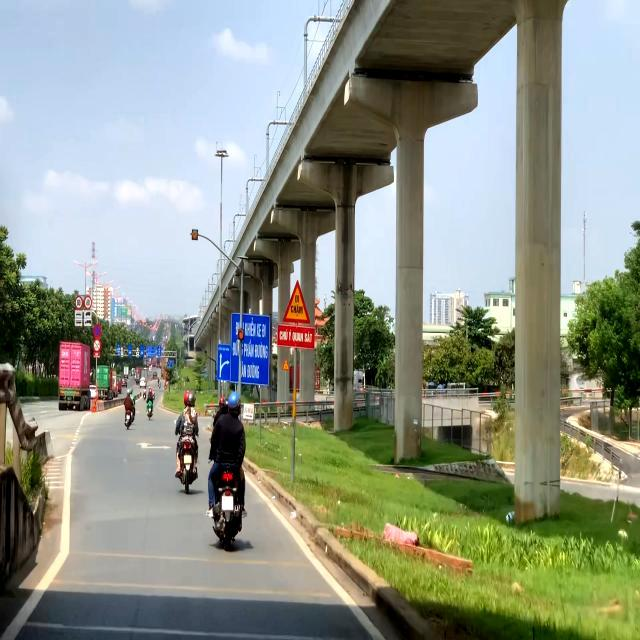Cam dung xe va do xe: (94, 324, 102, 338)
Di cham: (282, 278, 311, 324)
Toc do toi da cho phep: (74, 296, 82, 310), (84, 296, 92, 310)
